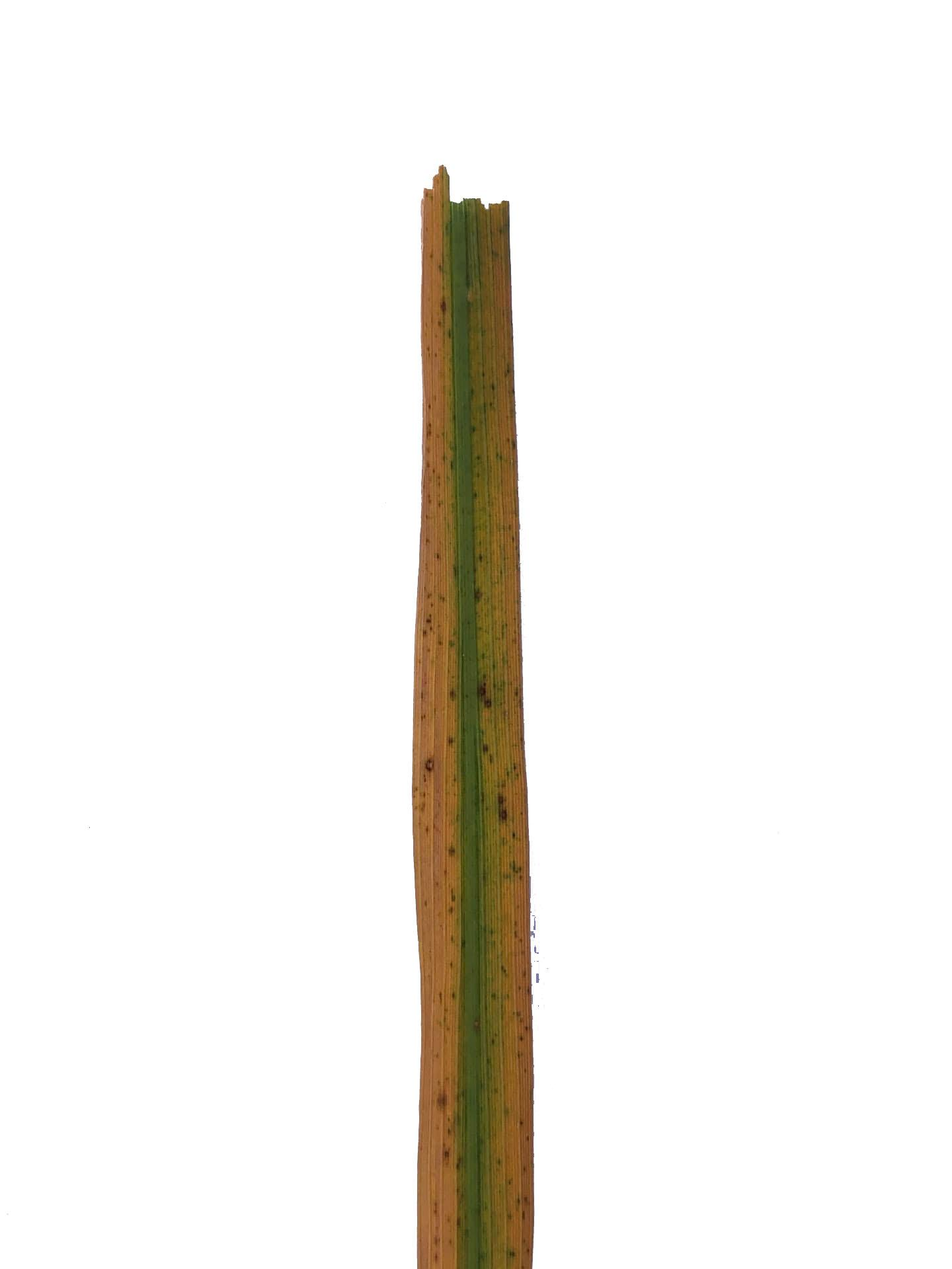Tungro: (411, 171, 537, 1269)
